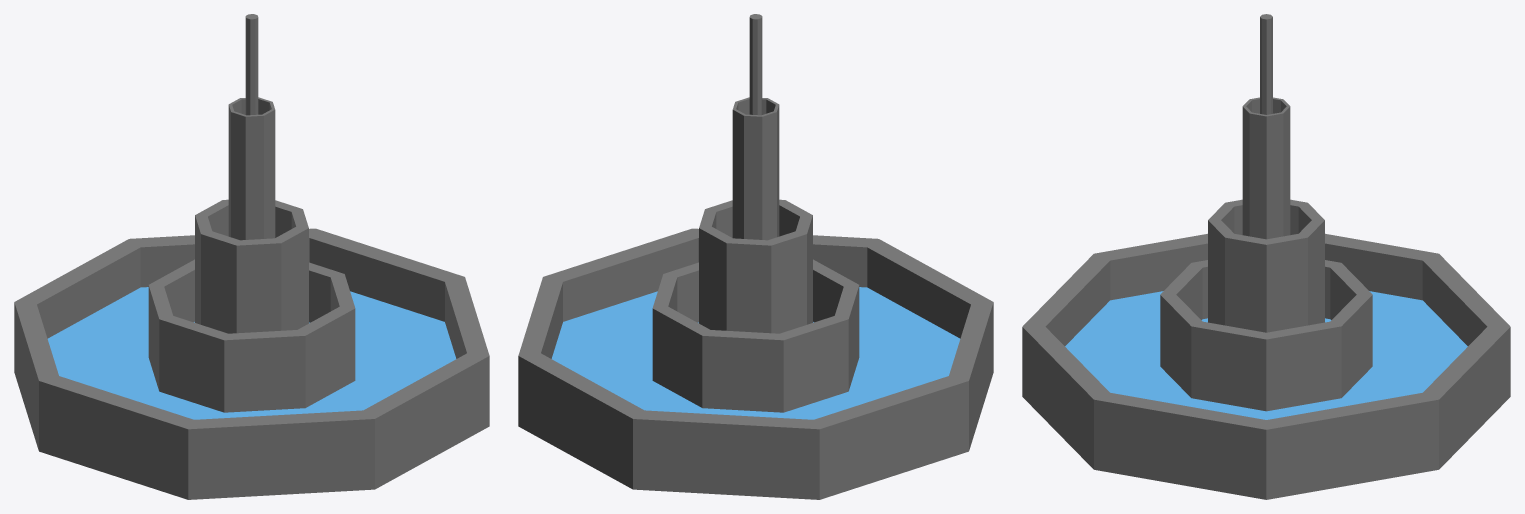
The model's file is fountain.fbx.
The picture shows the model from 3 angles, left to right: view 1: azimuth 30°, elevation 25°; view 2: azimuth 150°, elevation 25°; view 3: azimuth 270°, elevation 25°; orthographic projection.
Parts seen in each view (by area): view 1: fountain; view 2: fountain; view 3: fountain.
Part boxes in pixels (x1,y1,x2,y2): fountain: [14, 14, 489, 499]; fountain: [518, 14, 993, 499]; fountain: [1022, 14, 1510, 499].
Bounding box in the file's own units: 359 × 309 × 359.
1 material, 1 textured.
